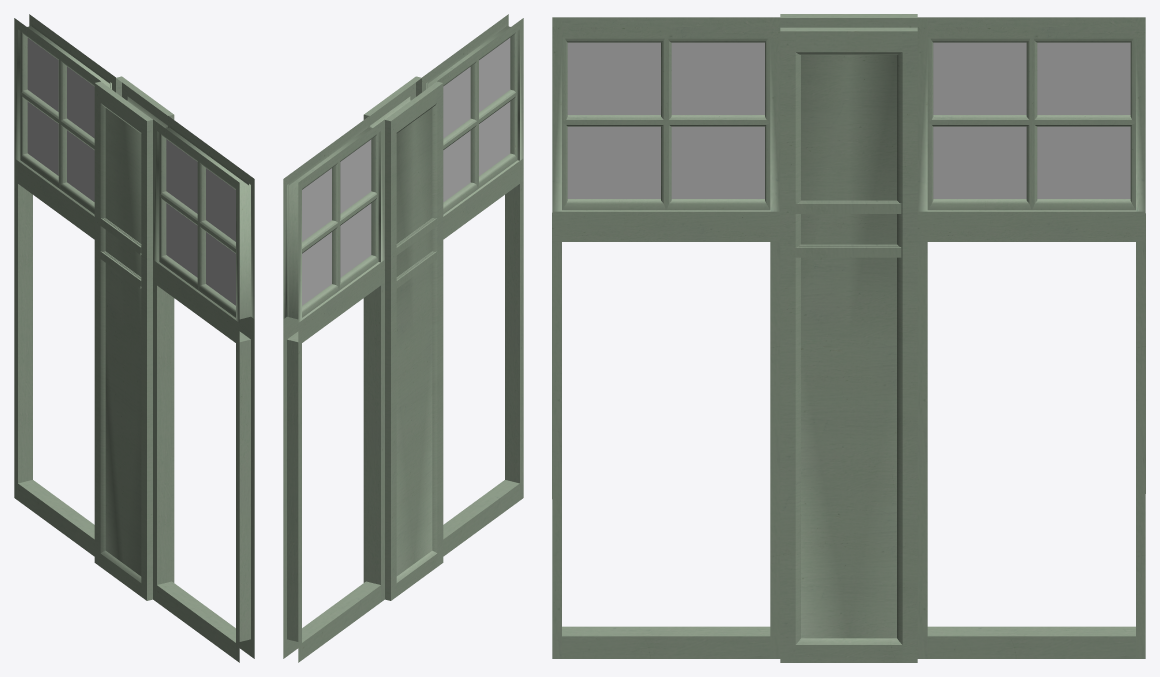
File: SM_WW42_Frame.fbx
The picture shows the model from 3 angles, left to right: view 1: azimuth 30°, elevation 25°; view 2: azimuth 150°, elevation 25°; view 3: azimuth 270°, elevation 25°; orthographic projection. The views are drawn at different scales.
Visible parts, largest first — view 1: SM_WW42_Frame; view 2: SM_WW42_Frame; view 3: SM_WW42_Frame.
Boxes of the visible parts, x1,y1,x2,y2 form: SM_WW42_Frame: [14, 14, 254, 662]; SM_WW42_Frame: [283, 14, 523, 662]; SM_WW42_Frame: [552, 14, 1145, 662].
Size of the model in its own units: 16.61 by 238 by 280.
Materials: 2 (1 with a texture image).
